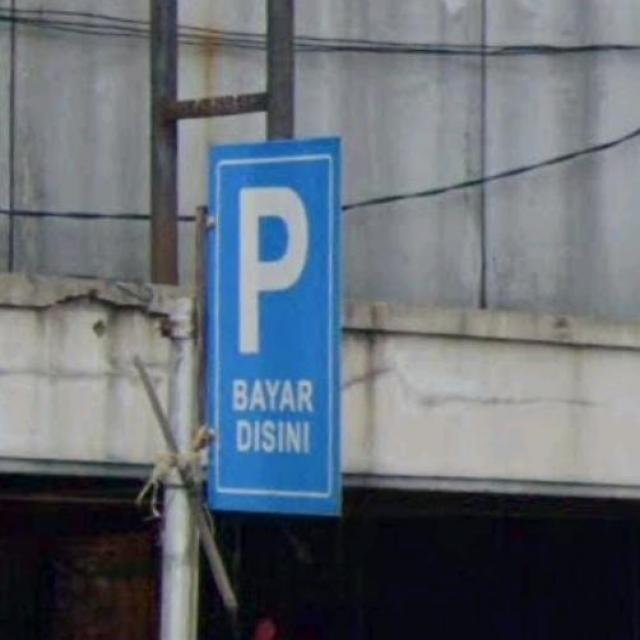traffic sign: (207, 140, 344, 516)
